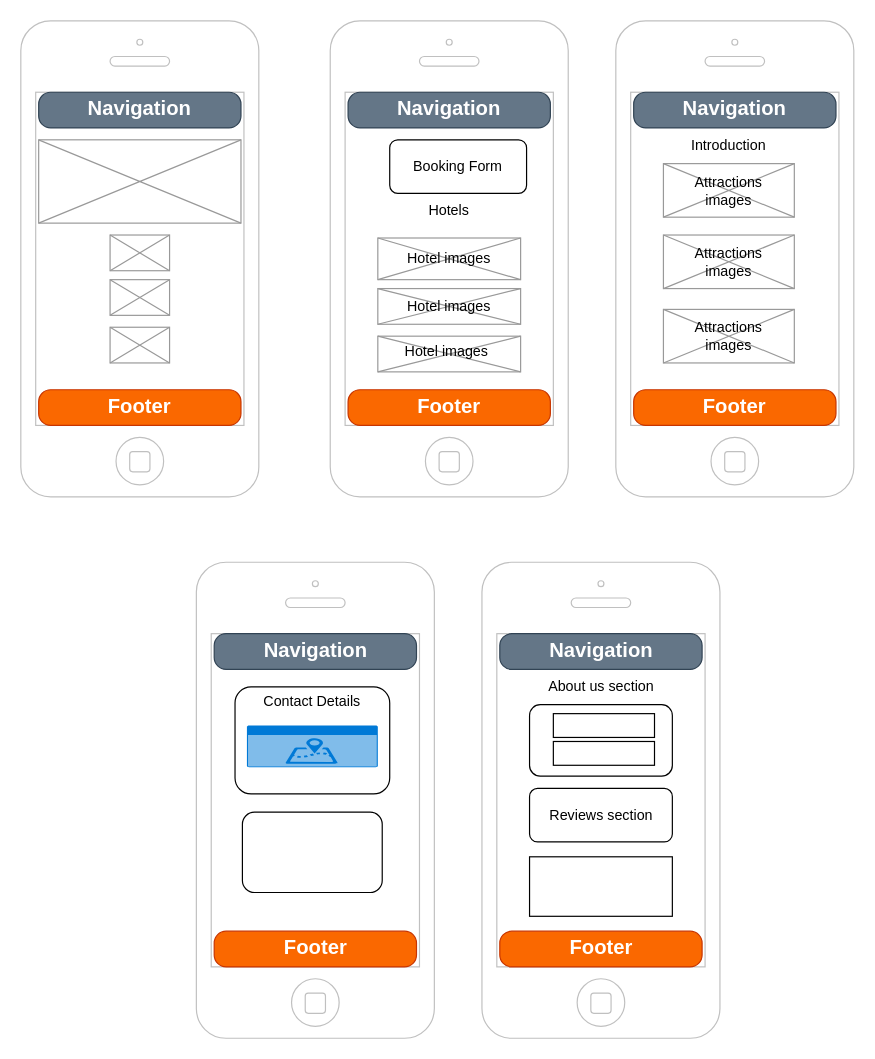
Image size: 875x1059. Some labels were removed from this diagram. The box of each missing label's shape, as (x1, y1, x2, y2) in pixels:
Charminar Image: (37, 139, 241, 223)
Contact Form: (241, 811, 382, 892)
Feedback Form: (528, 856, 672, 916)
Map: (246, 725, 377, 767)
